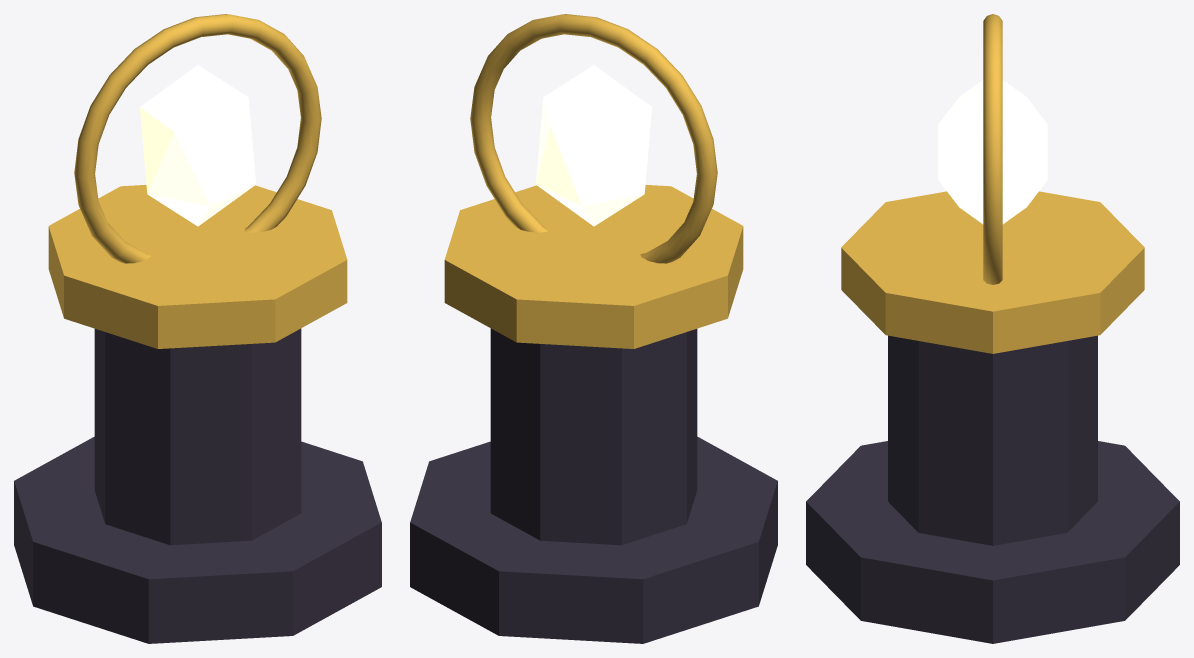
Rendered from cave_pedestal.glb.
3 views of the same model, side by side, from view 1: azimuth 30°, elevation 25°; view 2: azimuth 150°, elevation 25°; view 3: azimuth 270°, elevation 25° (orthographic).
Visible parts, largest first — view 1: Base, Column, Top, Relic, Halo; view 2: Base, Column, Top, Relic, Halo; view 3: Base, Column, Top, Relic, Halo.
Part boxes in pixels (x1=…): Base: x1=14, y1=436, x2=381, y2=643; Column: x1=94, y1=328, x2=301, y2=545; Top: x1=48, y1=185, x2=347, y2=348; Relic: x1=140, y1=65, x2=255, y2=226; Halo: x1=74, y1=14, x2=321, y2=263; Base: x1=410, y1=436, x2=777, y2=643; Column: x1=490, y1=328, x2=697, y2=545; Top: x1=444, y1=185, x2=743, y2=348; Relic: x1=536, y1=65, x2=651, y2=226; Halo: x1=470, y1=14, x2=717, y2=263; Base: x1=806, y1=441, x2=1179, y2=643; Column: x1=888, y1=335, x2=1097, y2=545; Top: x1=841, y1=191, x2=1144, y2=353; Relic: x1=938, y1=80, x2=1047, y2=224; Halo: x1=983, y1=14, x2=1002, y2=284.
Size of the model in its own units: 1.6 by 2.54 by 1.6.
